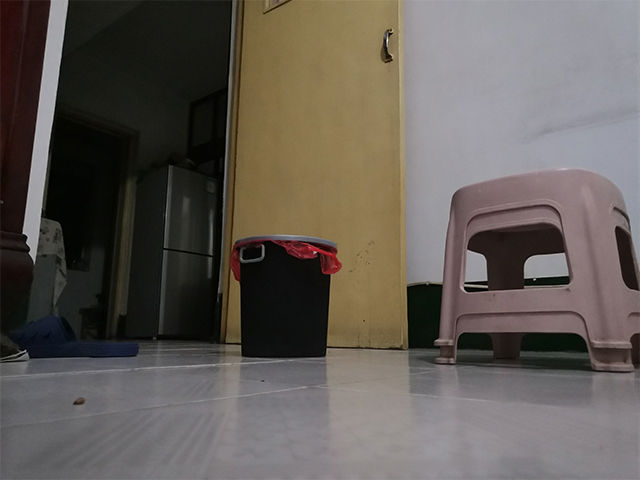slippers: (4, 314, 141, 359)
stool: (432, 166, 640, 374)
trashcan: (226, 233, 344, 360)
